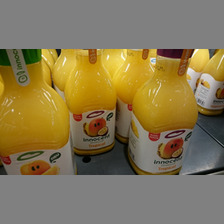juice: (1, 49, 76, 175), (127, 49, 200, 174), (65, 49, 118, 157)
